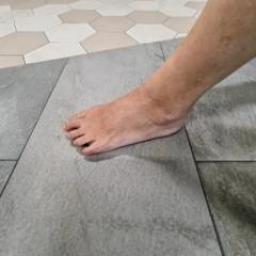Lateral View -Left Foot-: (47, 65, 212, 172)
